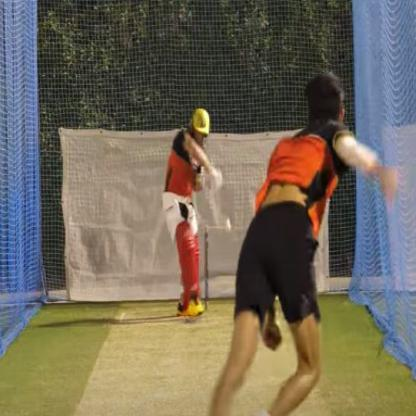ball: (221, 215, 235, 236)
